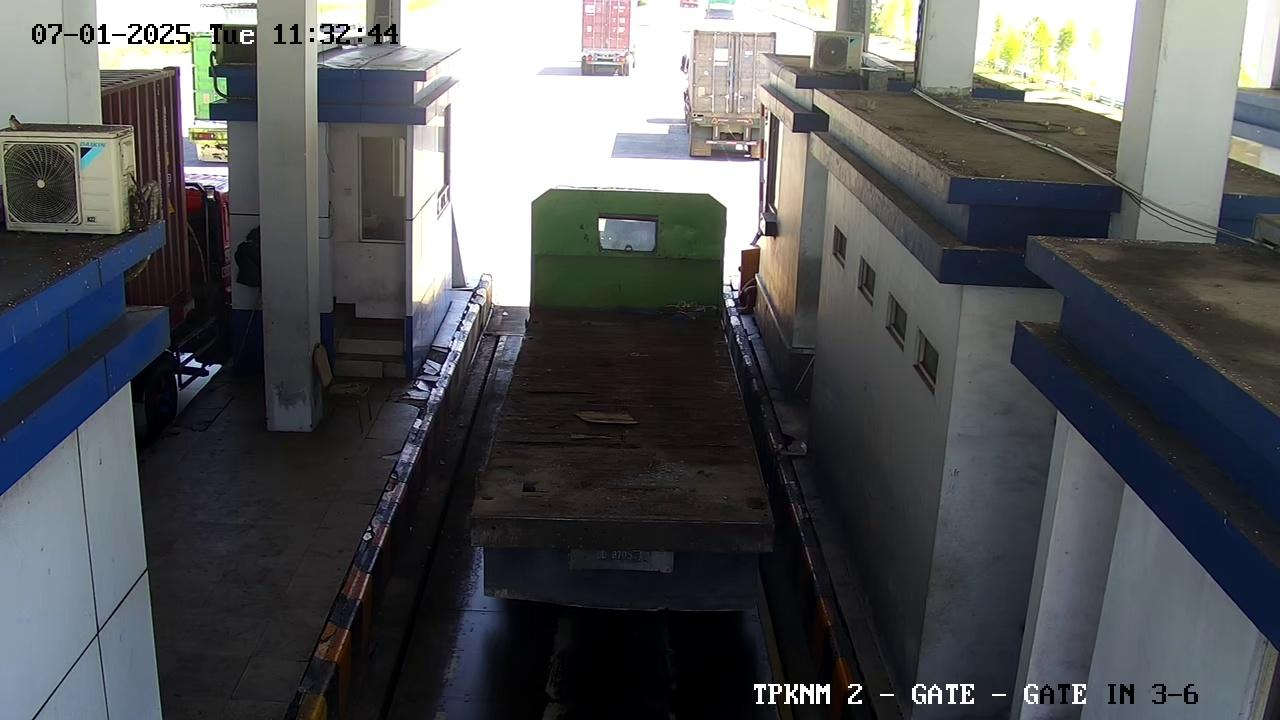plate_number: (578, 546, 656, 579)
